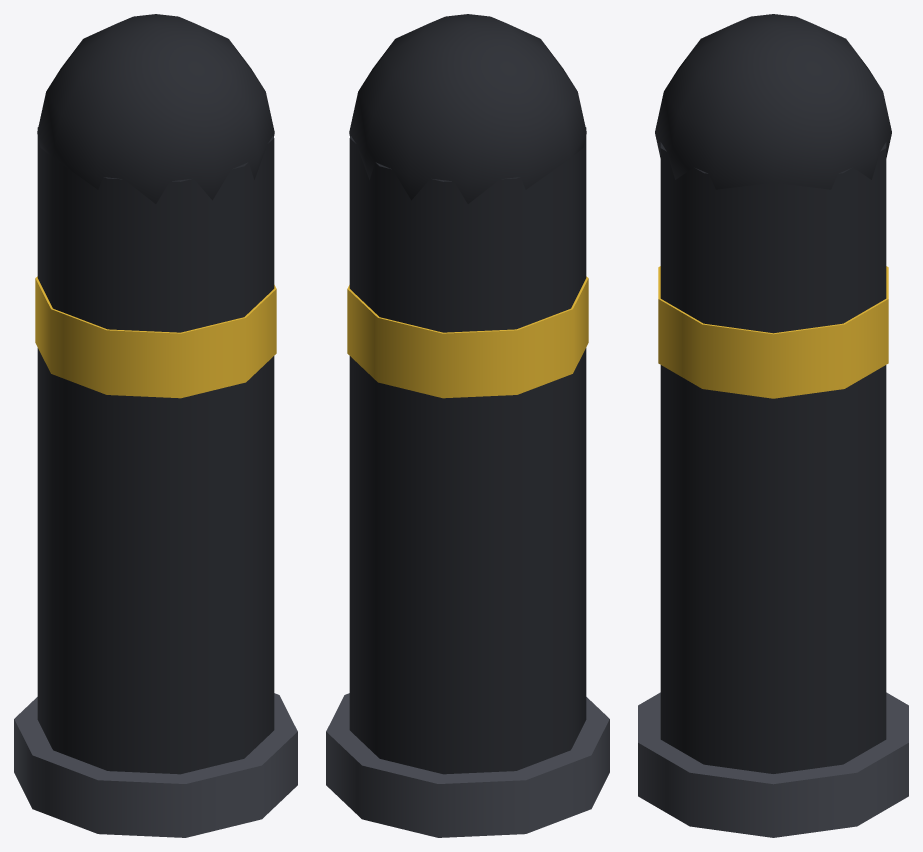
File: bollard.glb
The picture shows the model from 3 angles, left to right: view 1: azimuth 30°, elevation 25°; view 2: azimuth 150°, elevation 25°; view 3: azimuth 270°, elevation 25°; orthographic projection.
Parts seen in each view (by area): view 1: root; view 2: root; view 3: root.
Boxes of the visible parts, box(x1,y1,x2,y2) form: root: box(14, 14, 297, 837); root: box(326, 14, 609, 837); root: box(638, 14, 908, 837).
Size of the model in its own units: 0.24 by 0.7 by 0.2283.
